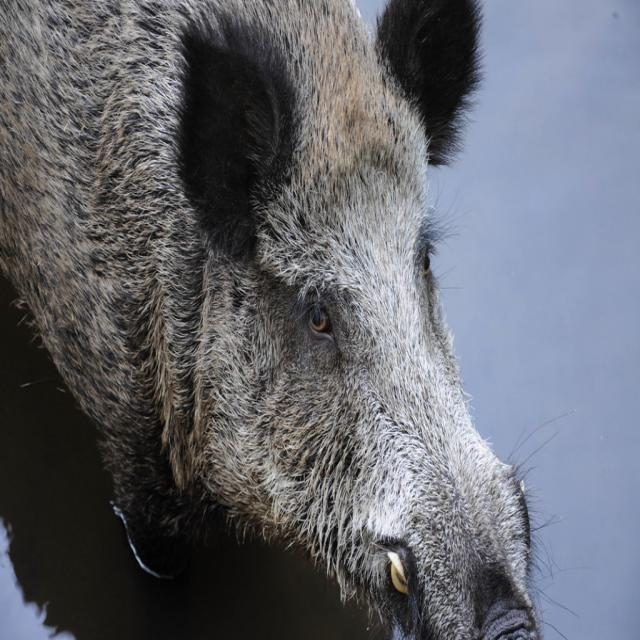Pig: (0, 0, 596, 640)
